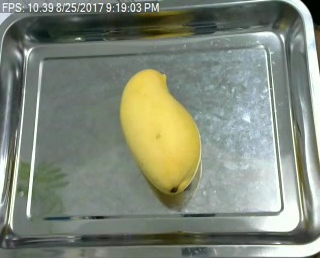Mango: (113, 63, 205, 198)
